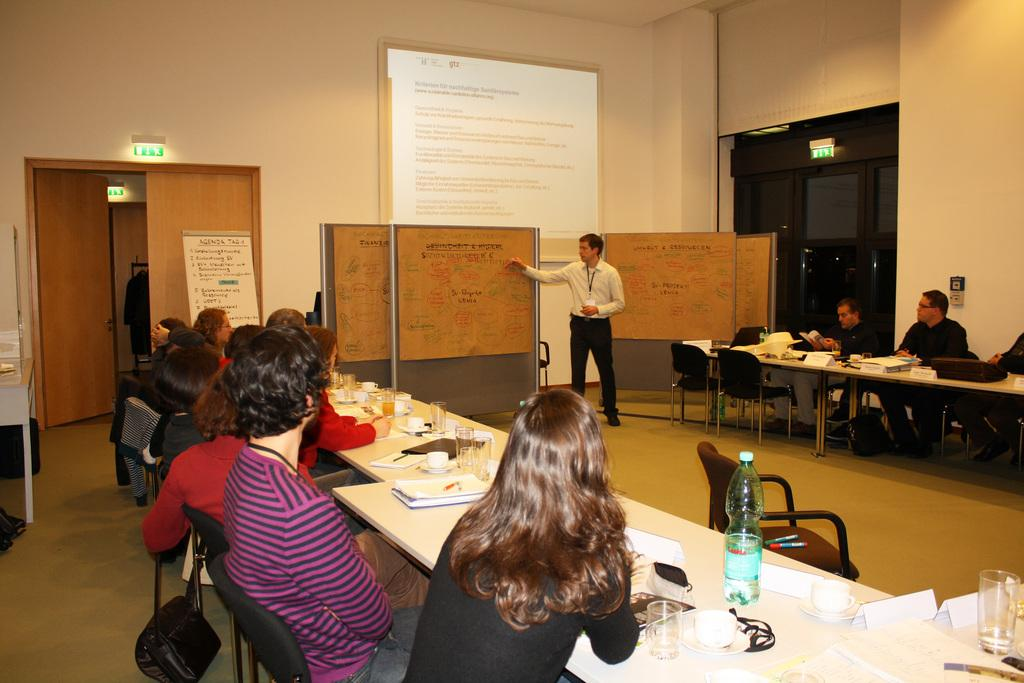Chair: (695, 440, 858, 580), (715, 348, 792, 445), (669, 342, 733, 433)
